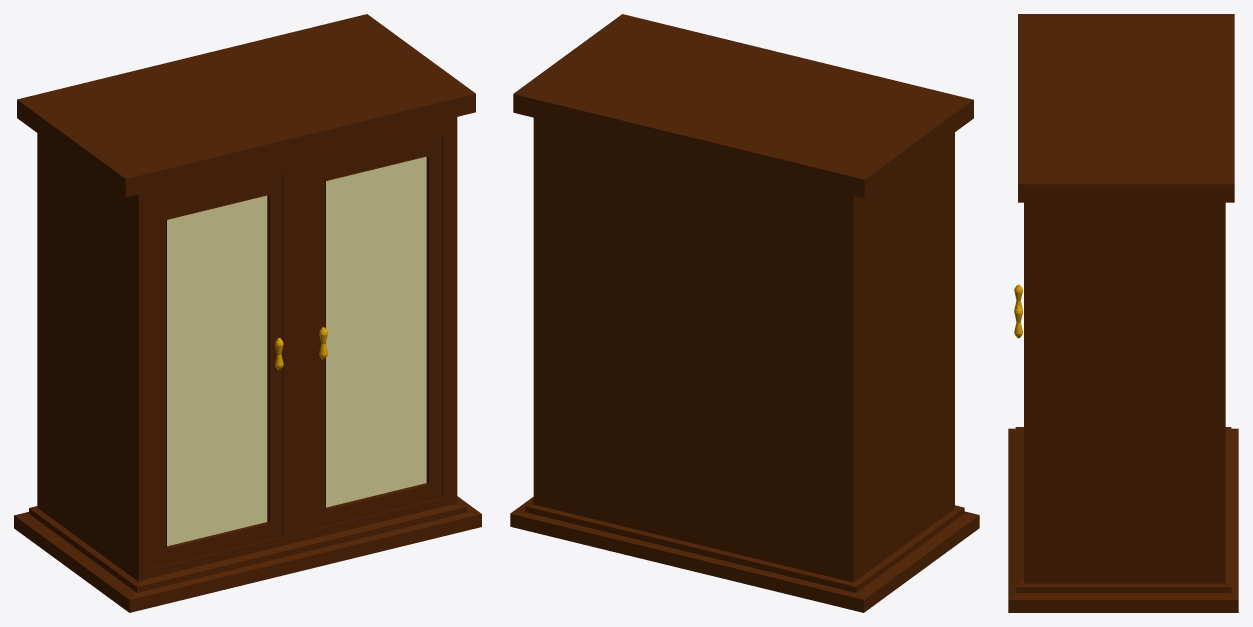
File: Guarda-Roupa.fbx
The picture shows the model from 3 angles, left to right: view 1: azimuth 30°, elevation 25°; view 2: azimuth 150°, elevation 25°; view 3: azimuth 270°, elevation 25°; orthographic projection.
Parts seen in each view (by area): view 1: Cube.075; view 2: Cube.075; view 3: Cube.075.
Boxes of the visible parts, x1,y1,x2,y2 form: Cube.075: (14,14,481,612); Cube.075: (510,14,979,612); Cube.075: (1008,14,1238,612).
Size of the model in its own units: 812 by 947 by 461.
